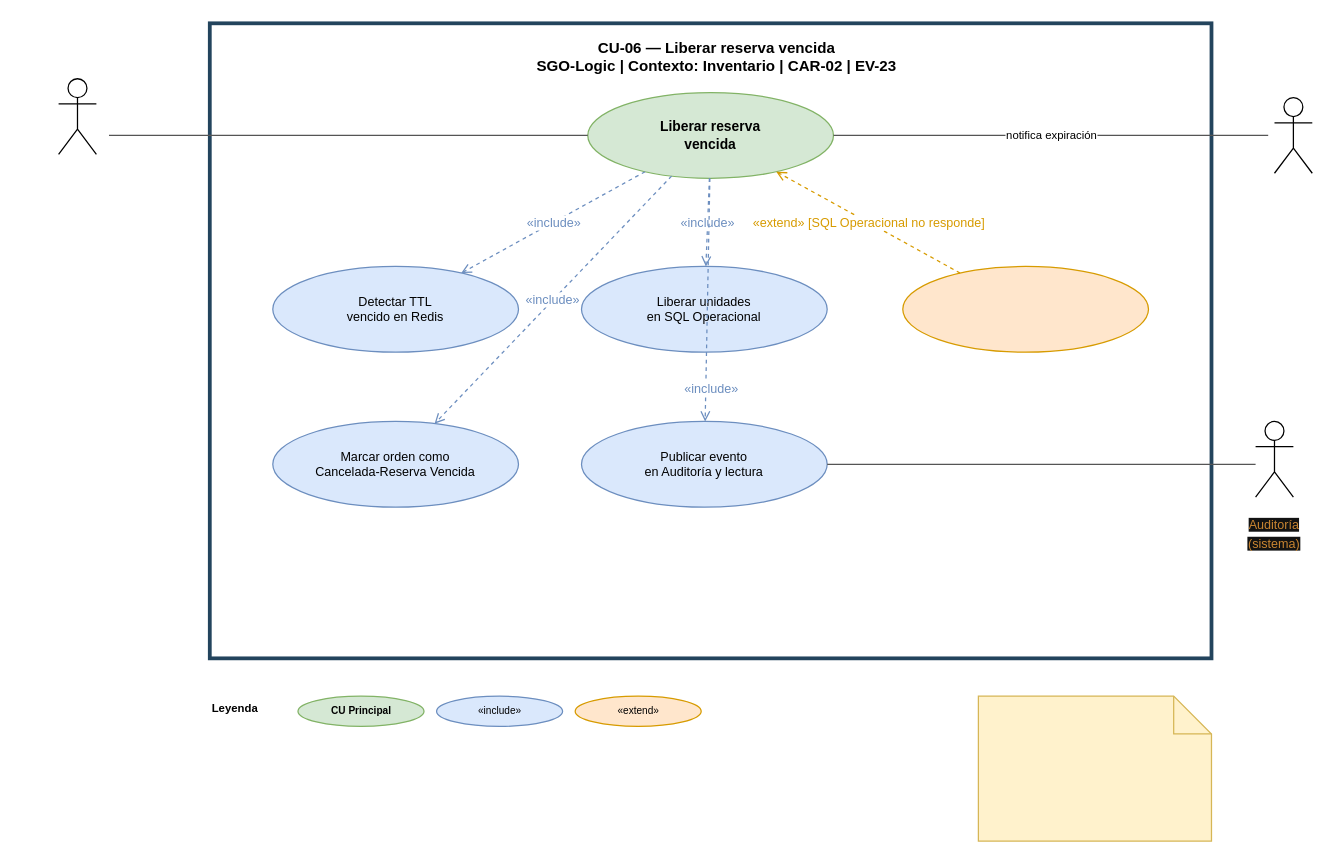
Image size: 1341x863. Some labels were removed from this diagram. Here are the shapes that lost their labels. From the top down, the box of each, then its label:
(57, 77, 96, 154): Sistema automático (TTL expirado)
(1273, 96, 1312, 173): Órdenes (sistema)
(902, 265, 1148, 352): Reintentar si SQL no responde
(977, 695, 1211, 841): Duración del TTL: [VAC: no definida] Pendiente de decisión del negocio. (EV-23)
